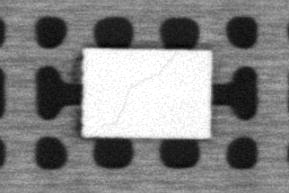DIE_CRACK: (112, 52, 178, 123)
